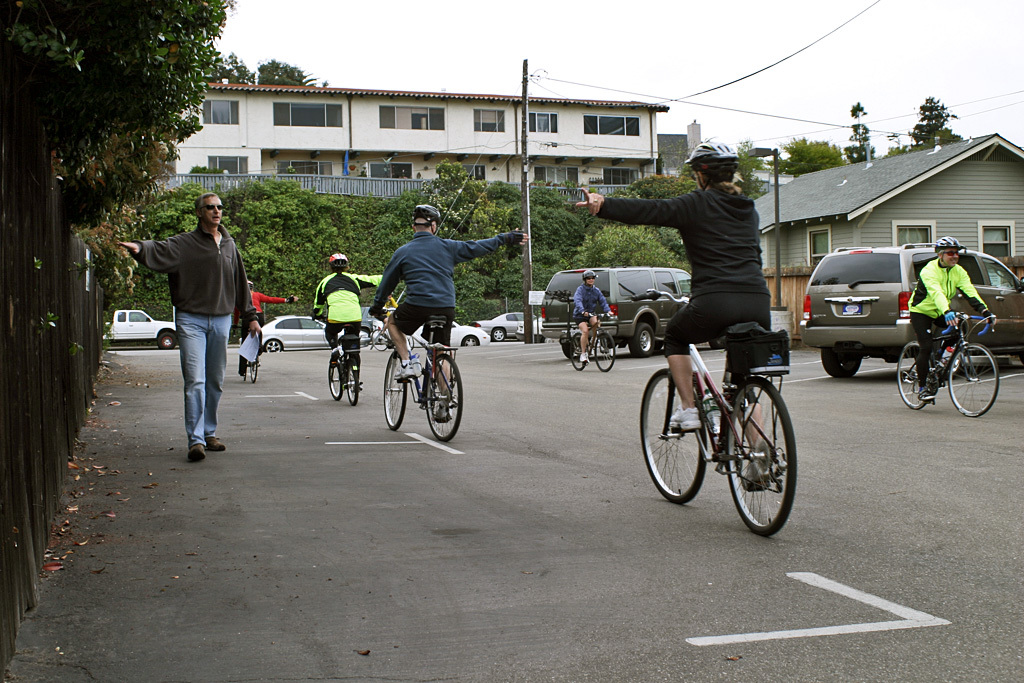Bike: (631, 280, 807, 536), (372, 300, 461, 446), (897, 311, 1000, 421), (312, 313, 365, 410), (567, 310, 620, 375)
